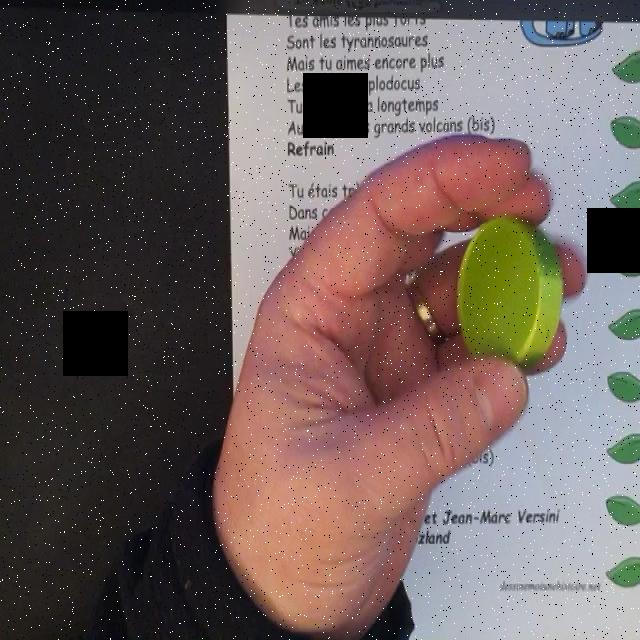round: (456, 215, 564, 379)
